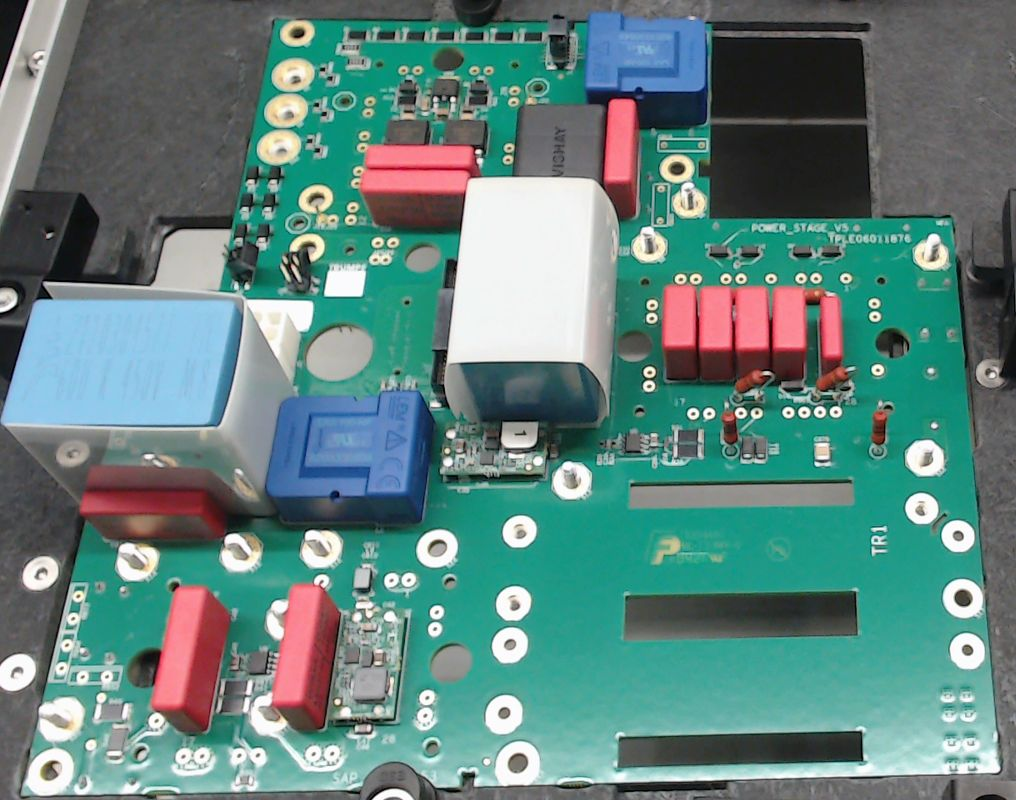comp1: (266, 388, 439, 522), (585, 11, 708, 128)
comp2: (147, 582, 228, 738), (267, 581, 341, 731), (73, 490, 228, 542), (361, 168, 470, 229), (604, 99, 643, 217), (769, 284, 810, 383), (731, 284, 769, 386), (661, 284, 699, 381), (697, 284, 734, 380), (361, 142, 480, 171), (814, 292, 845, 379)
comp3: (511, 102, 606, 182)
comp4: (2, 279, 299, 520), (444, 177, 621, 427)
